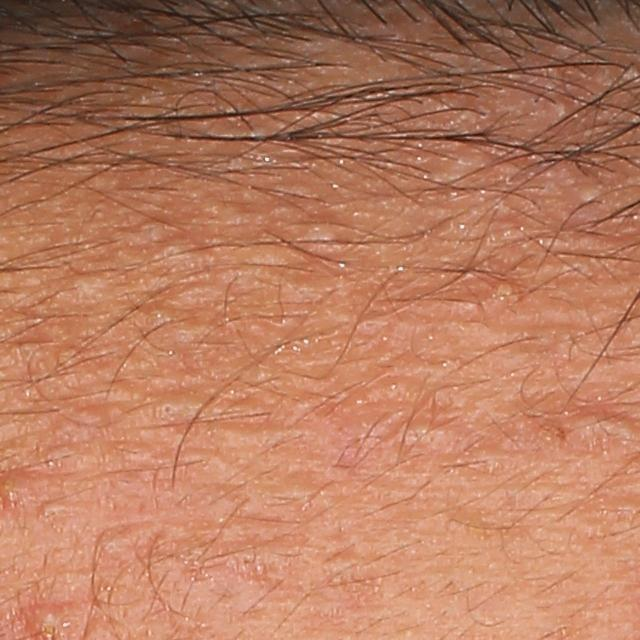comedo: (563, 404, 636, 455), (403, 407, 463, 452), (540, 232, 625, 259), (300, 209, 347, 257), (52, 270, 111, 304), (24, 600, 74, 633), (156, 235, 203, 268), (96, 526, 146, 556), (143, 304, 188, 331), (484, 276, 521, 307), (41, 501, 80, 525), (572, 180, 602, 208), (547, 95, 574, 126), (161, 398, 178, 419)
